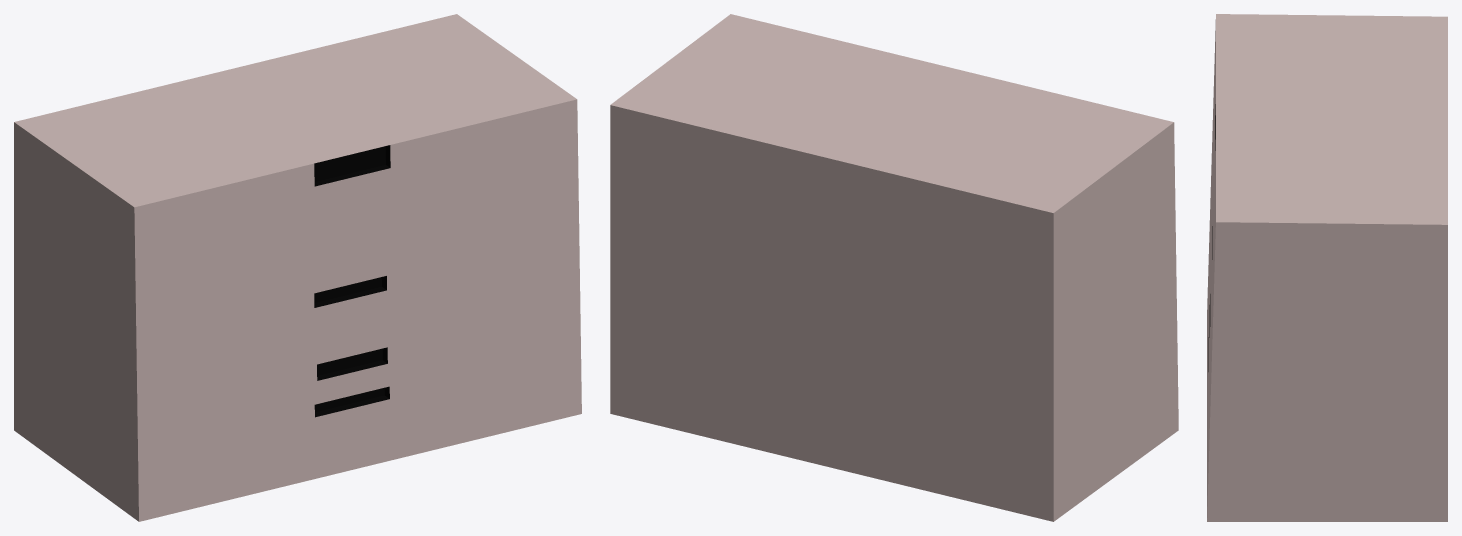
File: Escritorio  ver 2.fbx
3 renders of one model, left to right at view 1: azimuth 30°, elevation 25°; view 2: azimuth 150°, elevation 25°; view 3: azimuth 270°, elevation 25°, orthographic. The views are drawn at different scales.
Parts seen in each view (by area): view 1: Cube; view 2: Cube; view 3: Cube.
Part boxes in pixels (bbox=[...]): Cube: bbox=[14, 14, 581, 521]; Cube: bbox=[610, 14, 1178, 521]; Cube: bbox=[1207, 14, 1447, 521].
Bounding box in the file's own units: 409 × 275 × 200.
